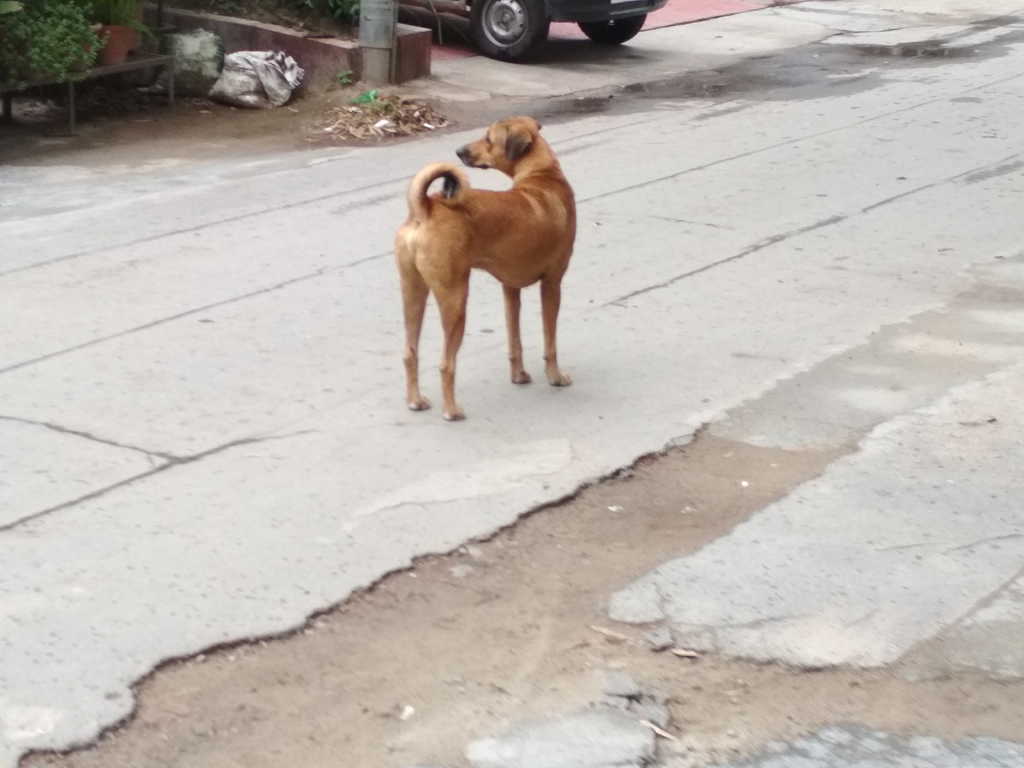dog: (393, 115, 578, 421)
